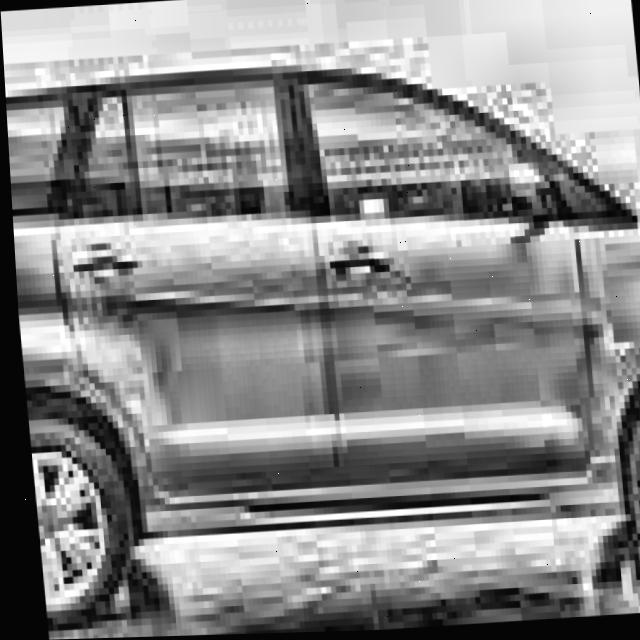light_vehicle: (2, 20, 640, 631)
